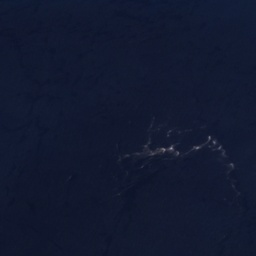Marine Debris: (117, 141, 180, 163), (189, 136, 217, 152), (217, 145, 225, 155), (229, 163, 234, 169), (140, 164, 145, 169), (167, 130, 172, 135)
